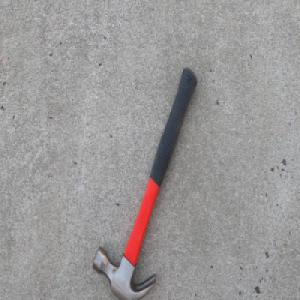Hammer: (92, 66, 198, 300)
